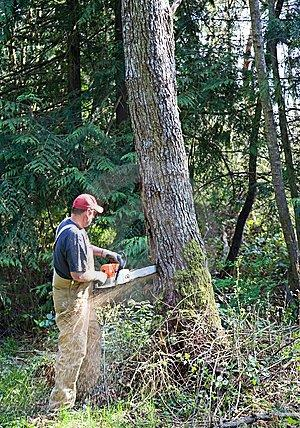person: (49, 193, 123, 421)
